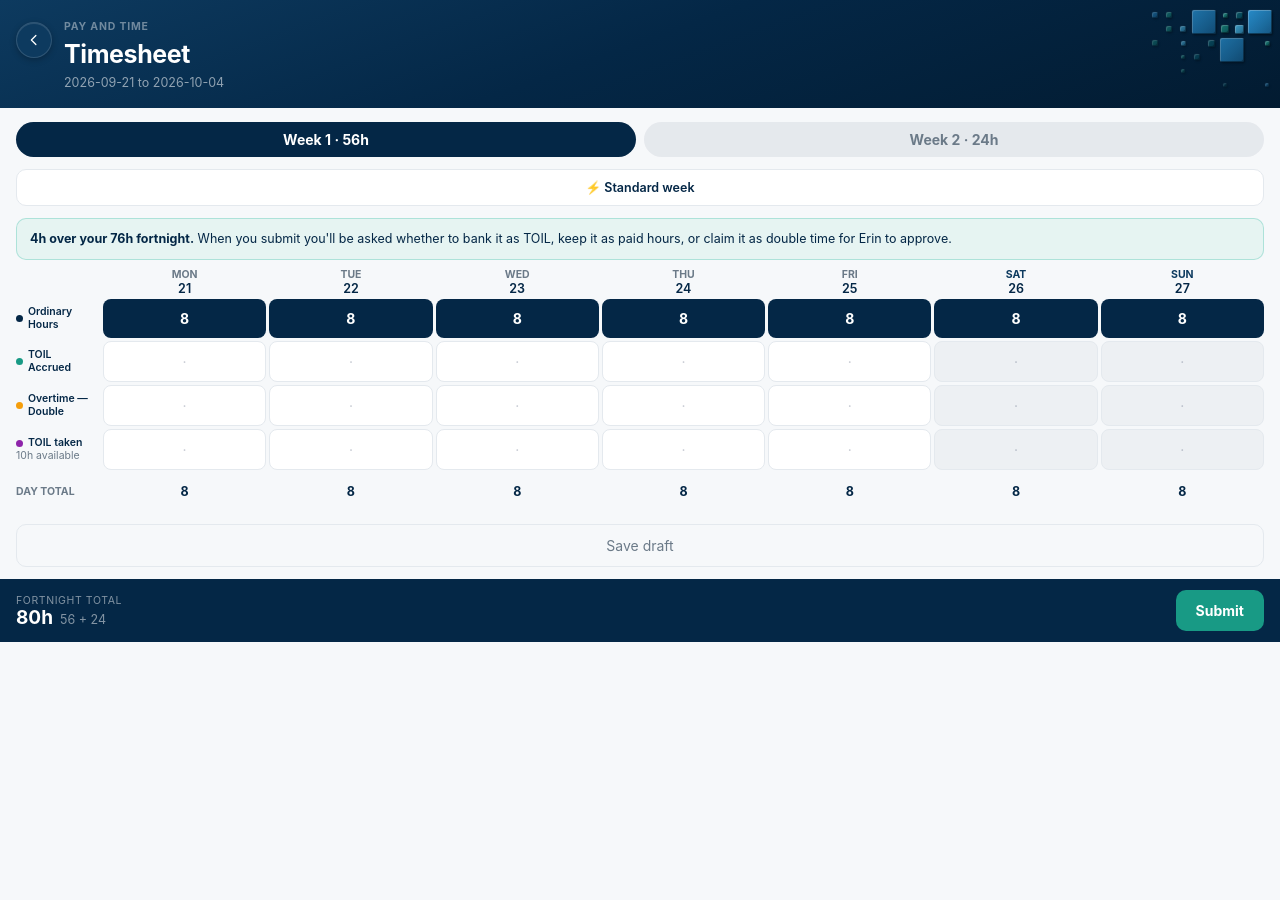
it: over or under the fortnight › over: asks, and "Keep as paid hours" sends bankToil false
The image size is (1280, 900).
Later steps or results of the test are not shown.
Expected: the text "Ordinary Hours" is shown, x1=16 y1=305 x2=72 y2=331
What coordinates should you click on to do the following:
click the button "Submit"
I would click on:
 (1220, 611)
Its box is x1=1176 y1=590 x2=1264 y2=631.
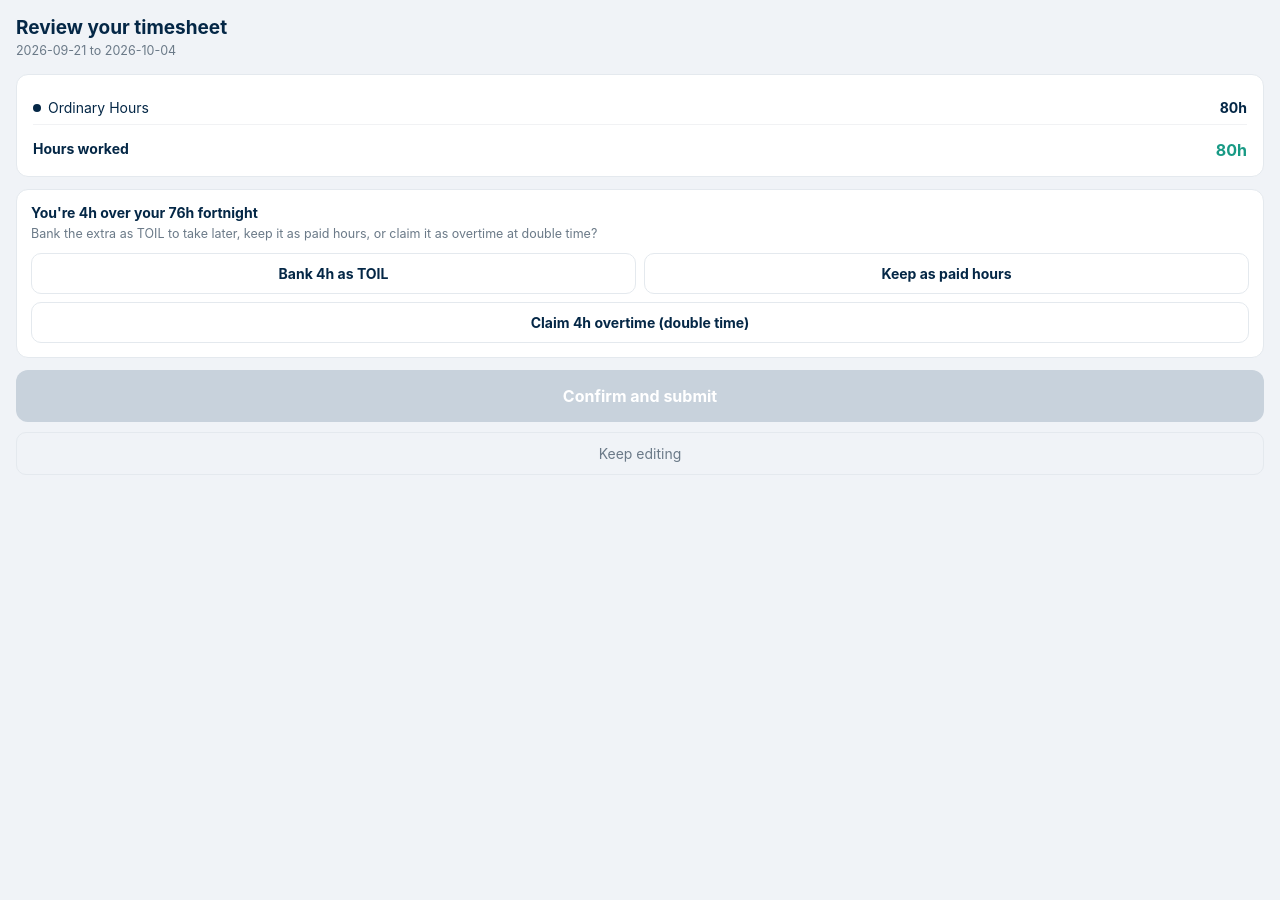
Expected: the element that starts with "You're" is shown, x1=16 y1=189 x2=1264 y2=358
Expected: the button "Confirm and submit" is disabled, x1=16 y1=370 x2=1264 y2=422
What coordinates should you click on to do the following:
click the button "Keep as paid hours"
I would click on:
 (946, 274)
Its box is x1=644 y1=253 x2=1249 y2=294.
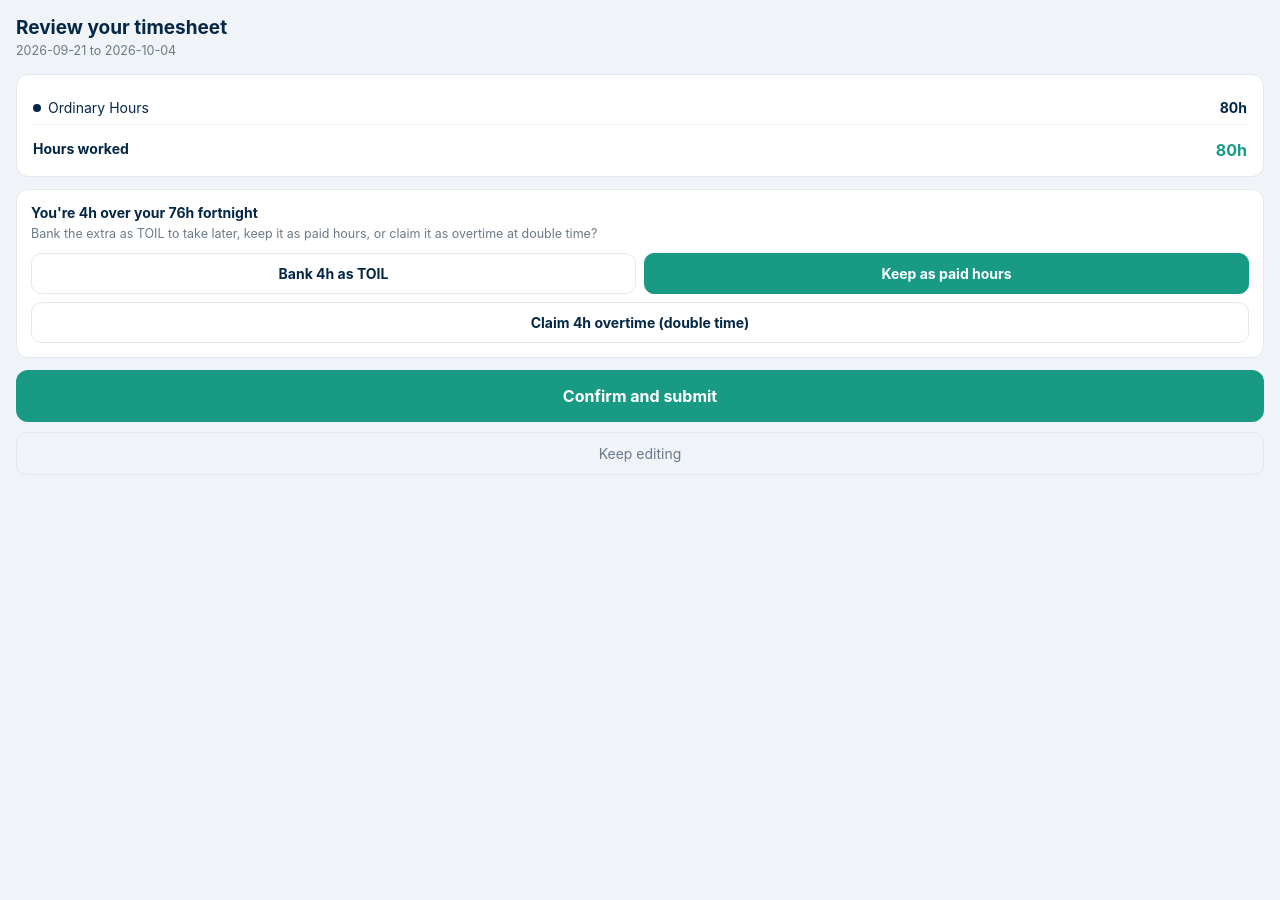
Expected: the button "Confirm and submit" is enabled, x1=16 y1=370 x2=1264 y2=422
